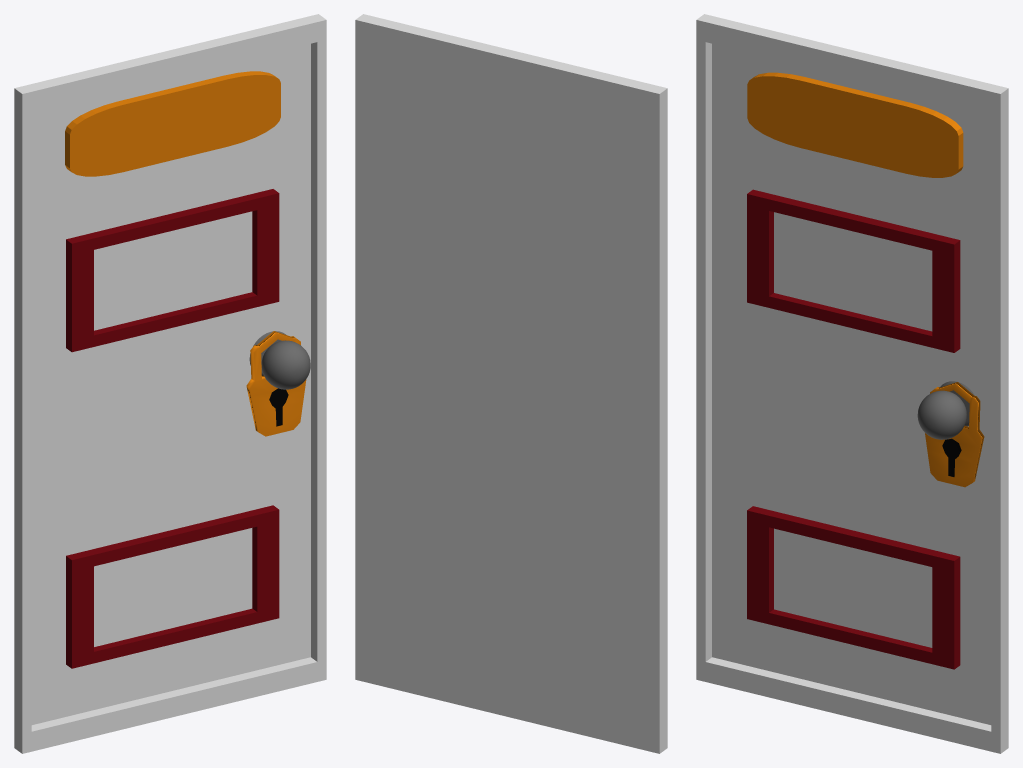
Rendered from Door.fbx.
3 renders of one model, left to right at view 1: azimuth 30°, elevation 25°; view 2: azimuth 150°, elevation 25°; view 3: azimuth 330°, elevation 25°, orthographic.
Parts seen in each view (by area): view 1: Cube, Cube.009; view 2: Cube; view 3: Cube, Cube.009.
Boxes of the visible parts, box(x1,y1,x2,y2) form: Cube: box(14, 14, 326, 753); Cube.009: box(31, 43, 310, 724); Cube: box(355, 14, 667, 753); Cube: box(696, 14, 1008, 753); Cube.009: box(712, 43, 991, 724).
Bounding box in the file's own units: 189 × 392 × 31.53.
